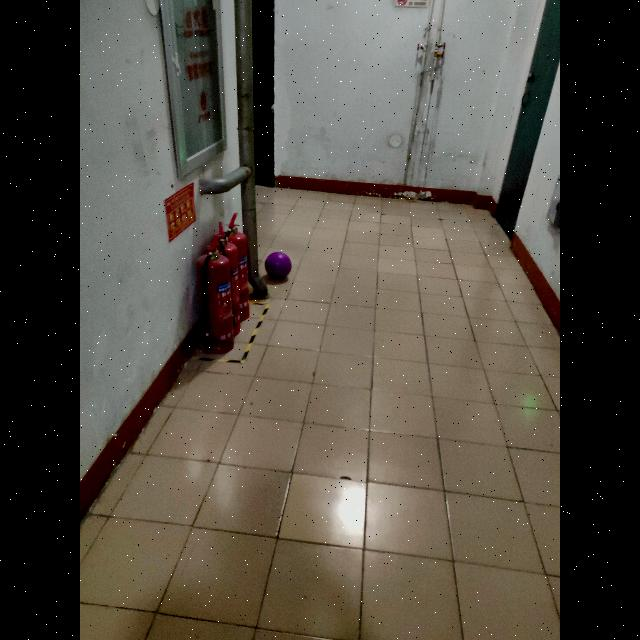P: (266, 252, 292, 280)
